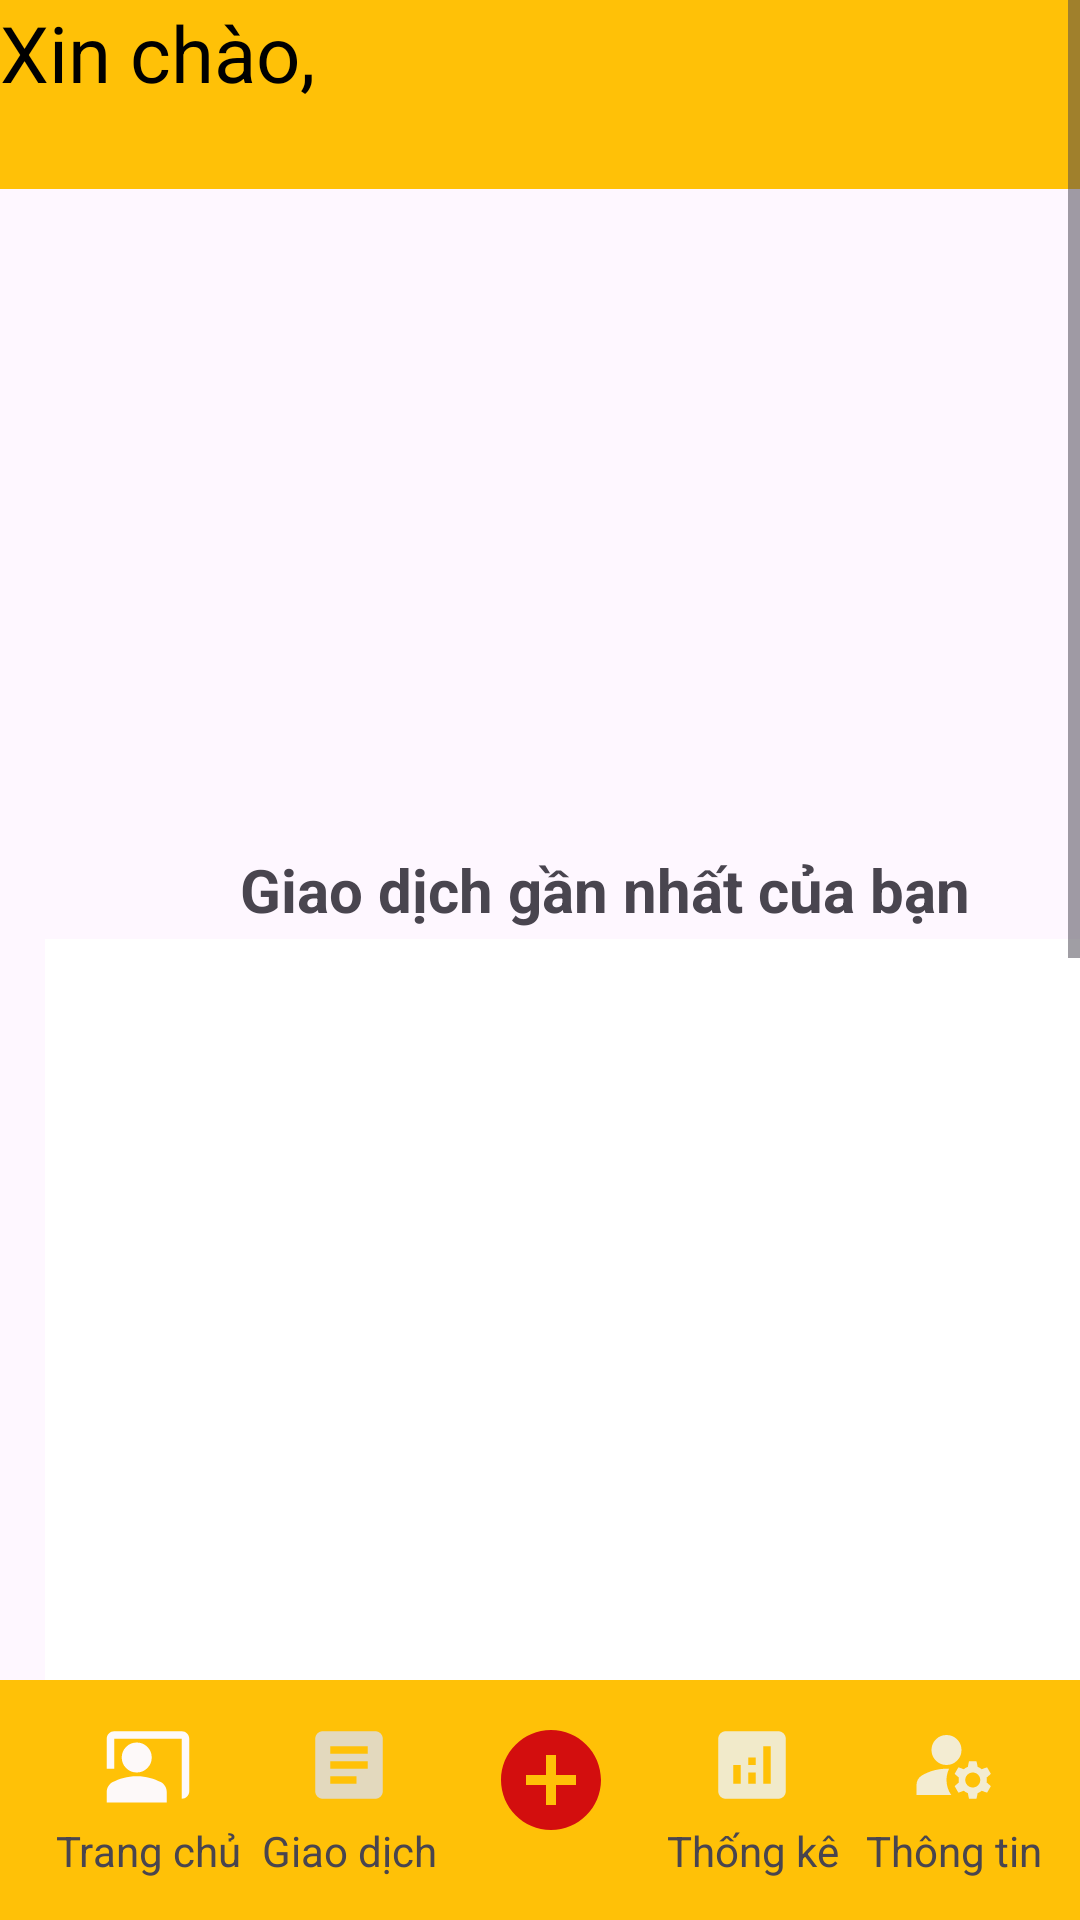

Icons on this 1080px×1920px Android screen, each with its box as (x1, y1, x2, y2):
add: (501, 1730, 601, 1830)
profile: (916, 1735, 991, 1799)
